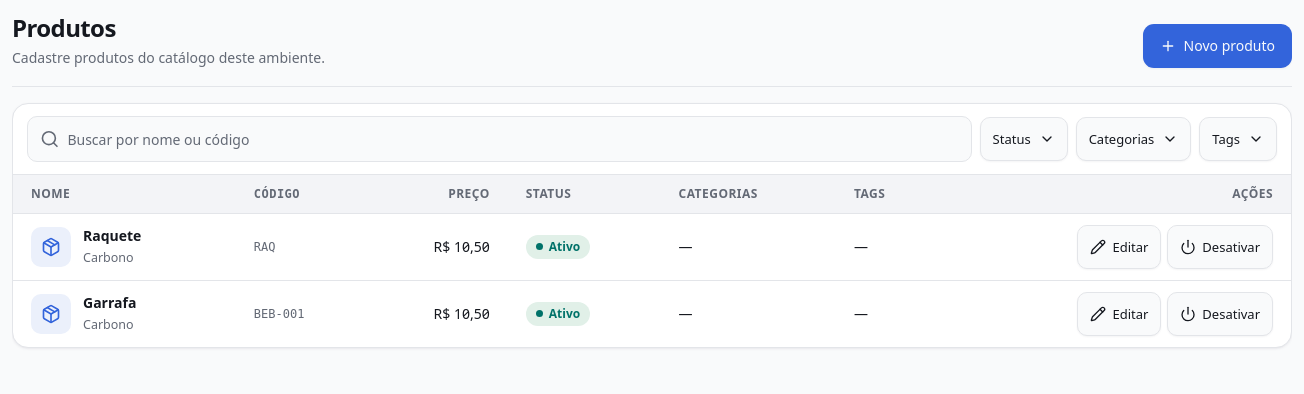
Test: CatalogProductsPage validity gate › searches loaded products by name or code without reloading data
Check: the text "Garrafa" is shown, box top-left (83, 292), bottom-right (136, 312)
Step 1. Type "beb-001" into the search field labelled "Buscar por nome ou código" → (513, 139), box top-left (67, 117), bottom-right (959, 161)
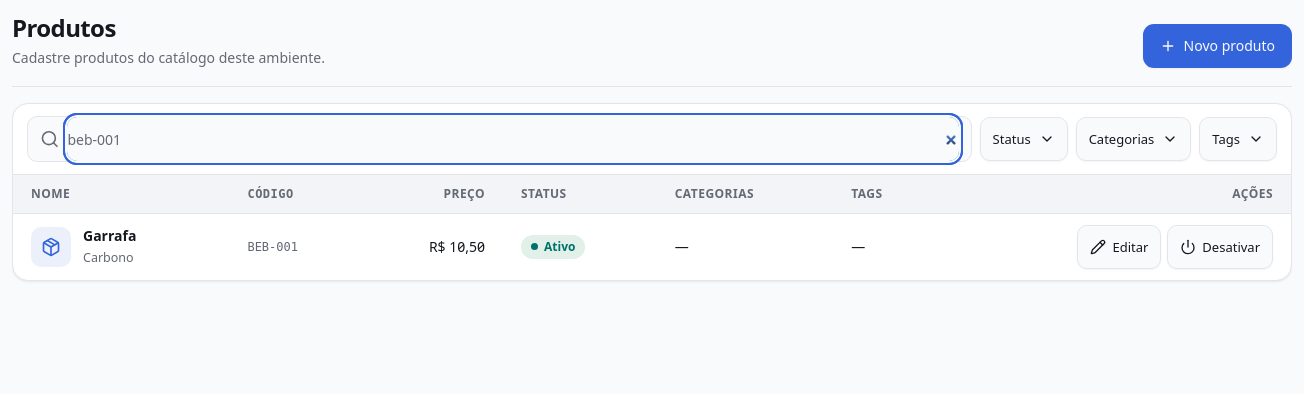
Check: the text "Garrafa" is shown, box top-left (83, 226), bottom-right (136, 246)
Check: the button "Raquete" is gone
Step 2. Clear the search field named "Buscar por nome ou código" → (513, 139), box top-left (67, 117), bottom-right (959, 161)
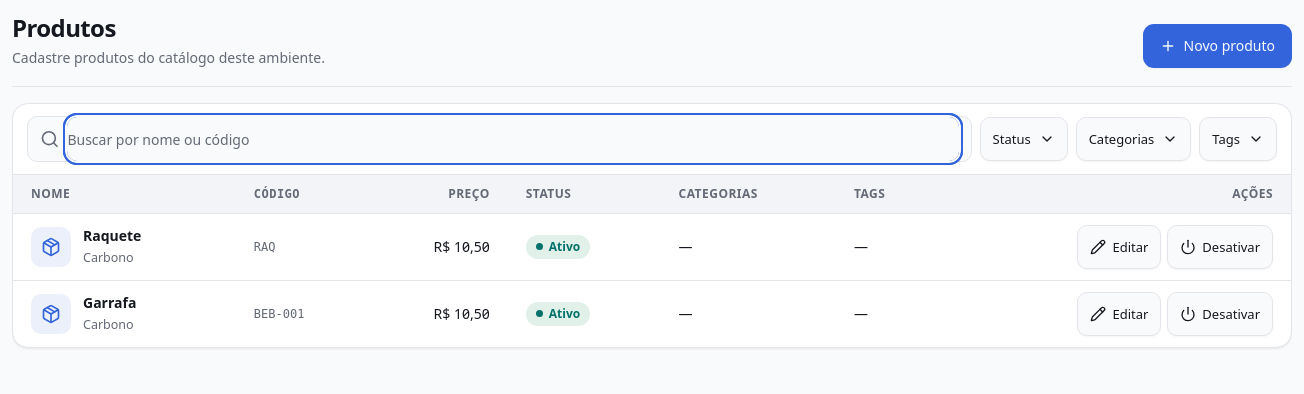
Check: the text "Raquete" is shown, box top-left (83, 226), bottom-right (141, 246)
Step 3. Type "does not exist" into the search field labelled "Buscar por nome ou código" → (513, 139), box top-left (67, 117), bottom-right (959, 161)
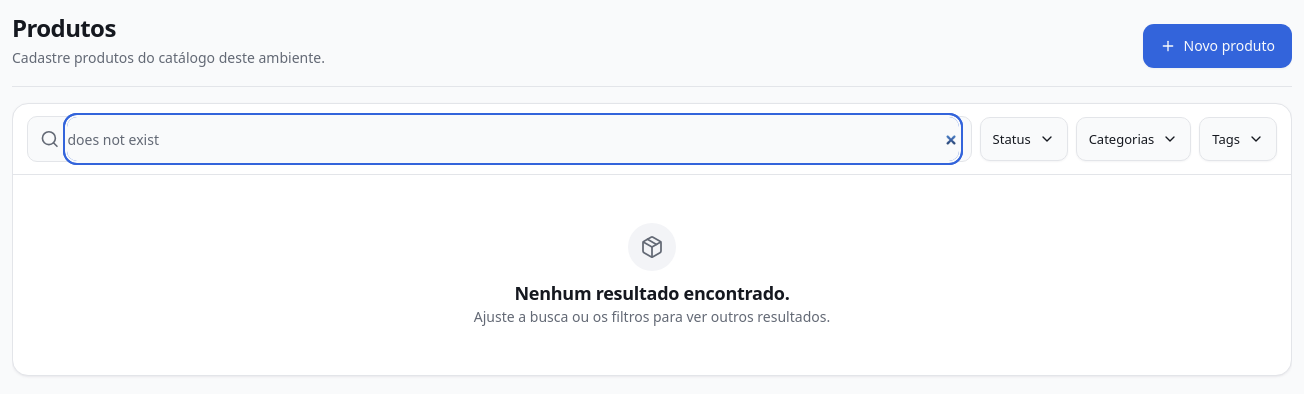
Check: the heading "Nenhum resultado encontrado." is shown, box top-left (514, 281), bottom-right (790, 305)
